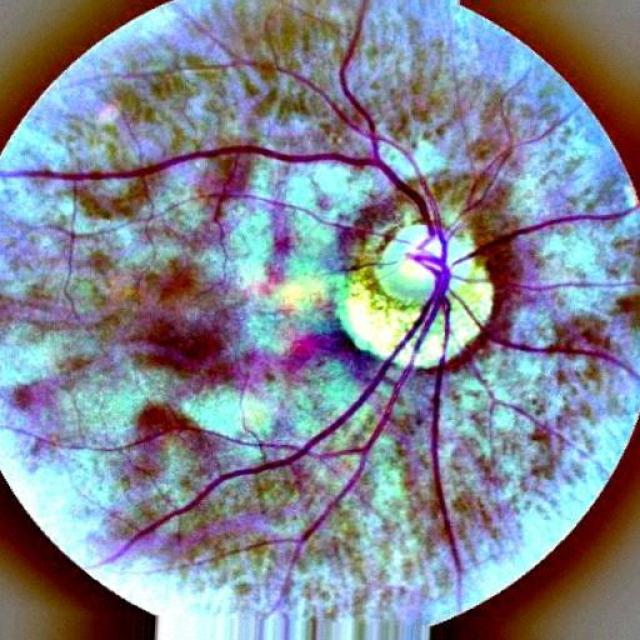Macula: (150, 319, 225, 371)
Nerves: (91, 268, 469, 601), (0, 2, 447, 269), (451, 299, 636, 381), (445, 203, 637, 280)
Optic Disk: (372, 224, 441, 302), (448, 235, 490, 298)
